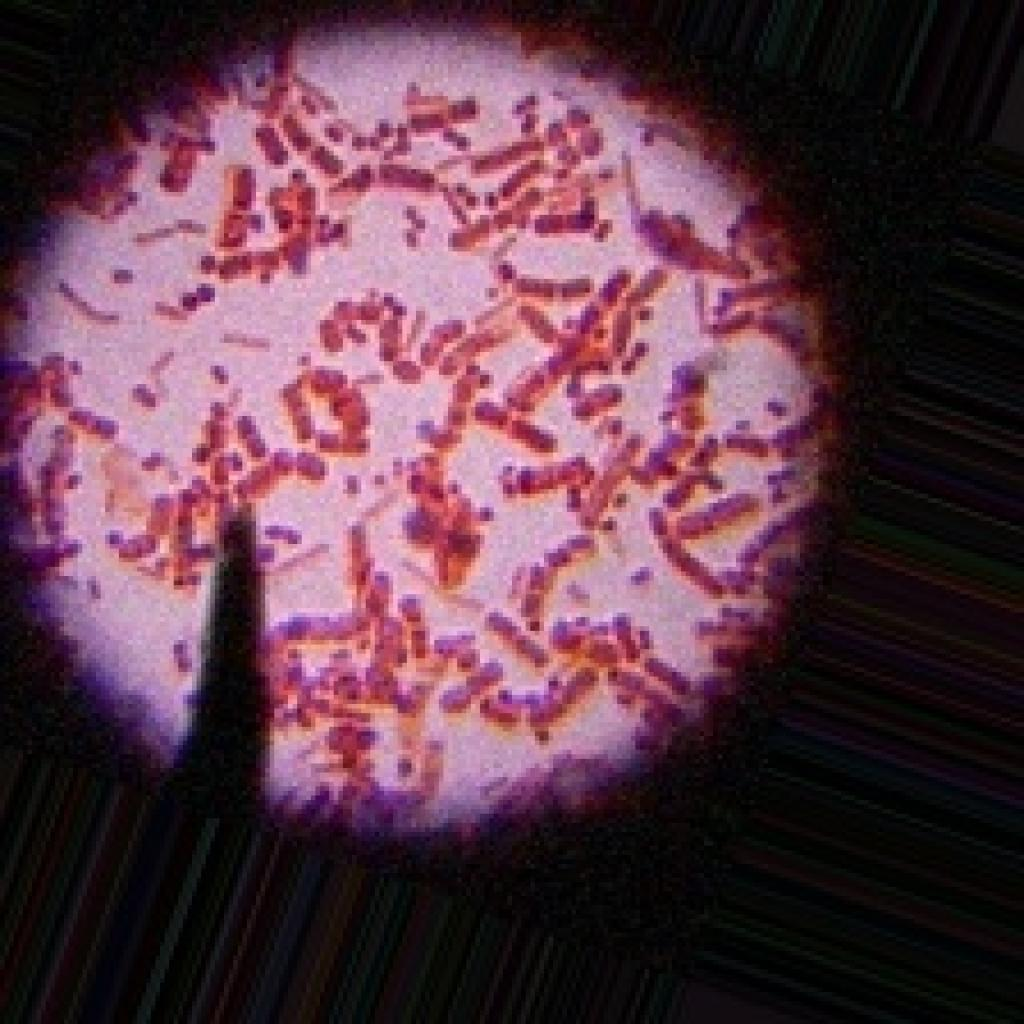Sprialbacteria: (0, 0, 845, 859)
